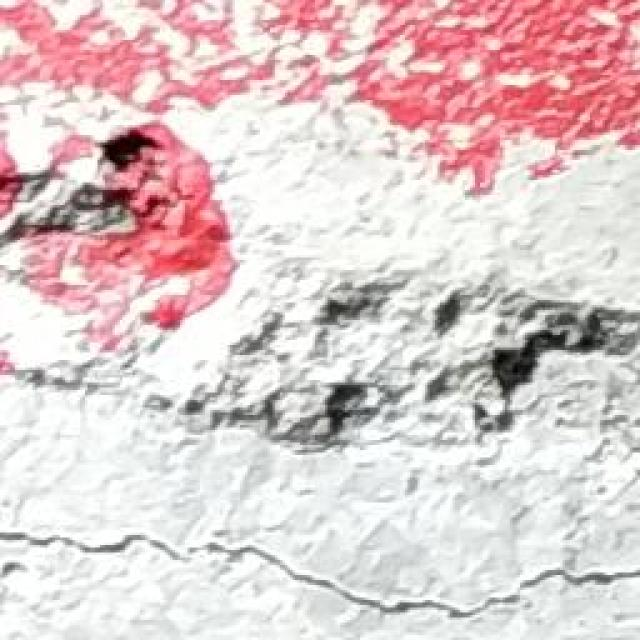Rippled: (0, 0, 640, 495)
Transverse: (0, 485, 640, 640)
